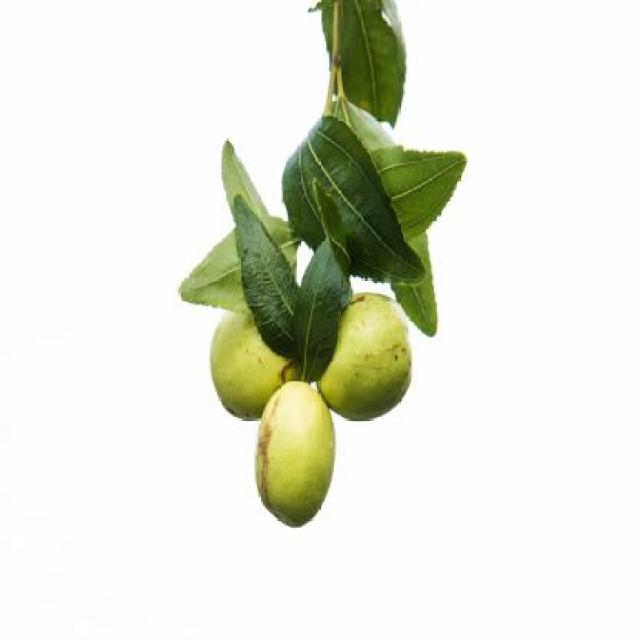Pear: (316, 292, 415, 426), (255, 378, 336, 532), (206, 316, 306, 422)
